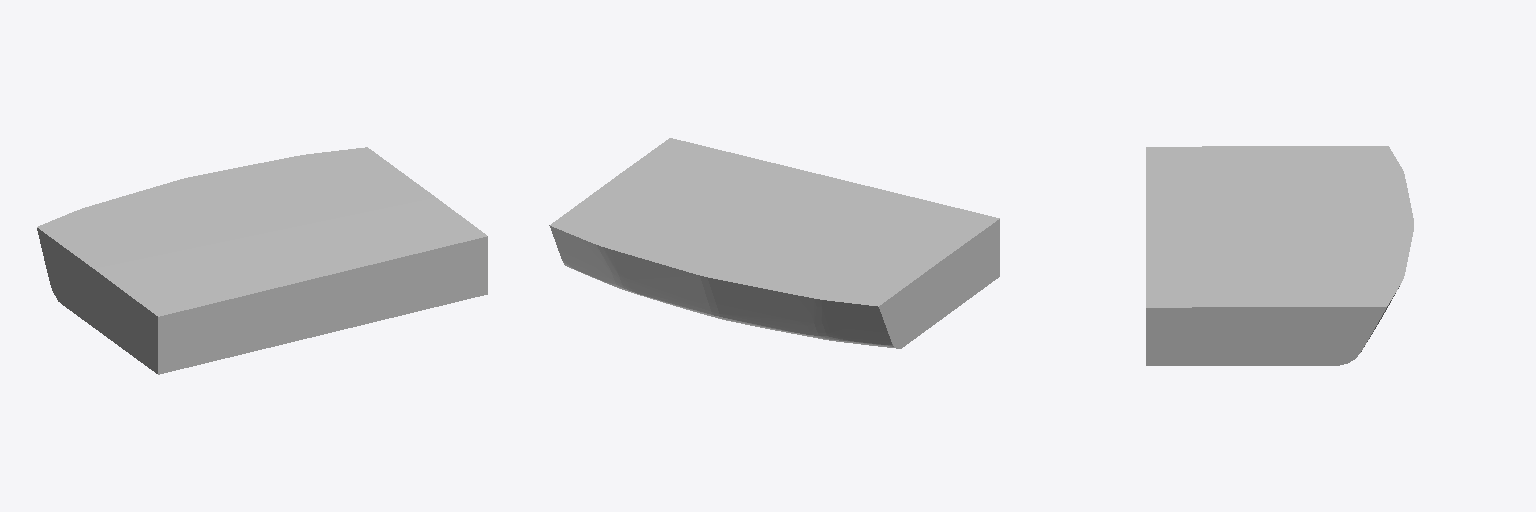
Rendered from Bowl_21_collision_15.obj.
3 views of the same model, side by side, from view 1: azimuth 30°, elevation 25°; view 2: azimuth 150°, elevation 25°; view 3: azimuth 270°, elevation 25° (orthographic).
Size of the model in its own units: 0.1041 by 0.0177 by 0.0734.